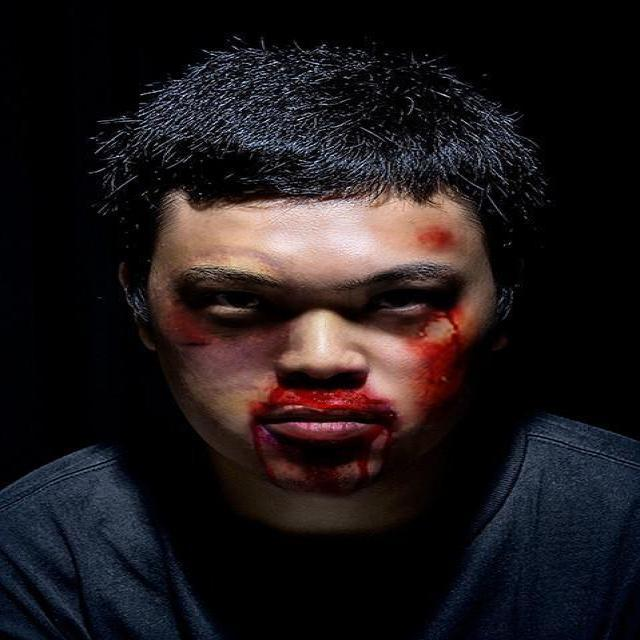flood: (233, 382, 414, 505), (406, 316, 494, 404)
